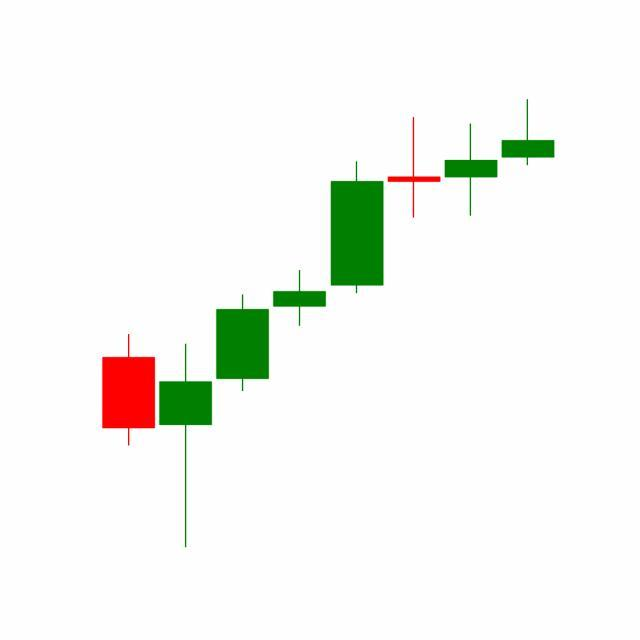Hikkake Pattern: (270, 99, 555, 330)
